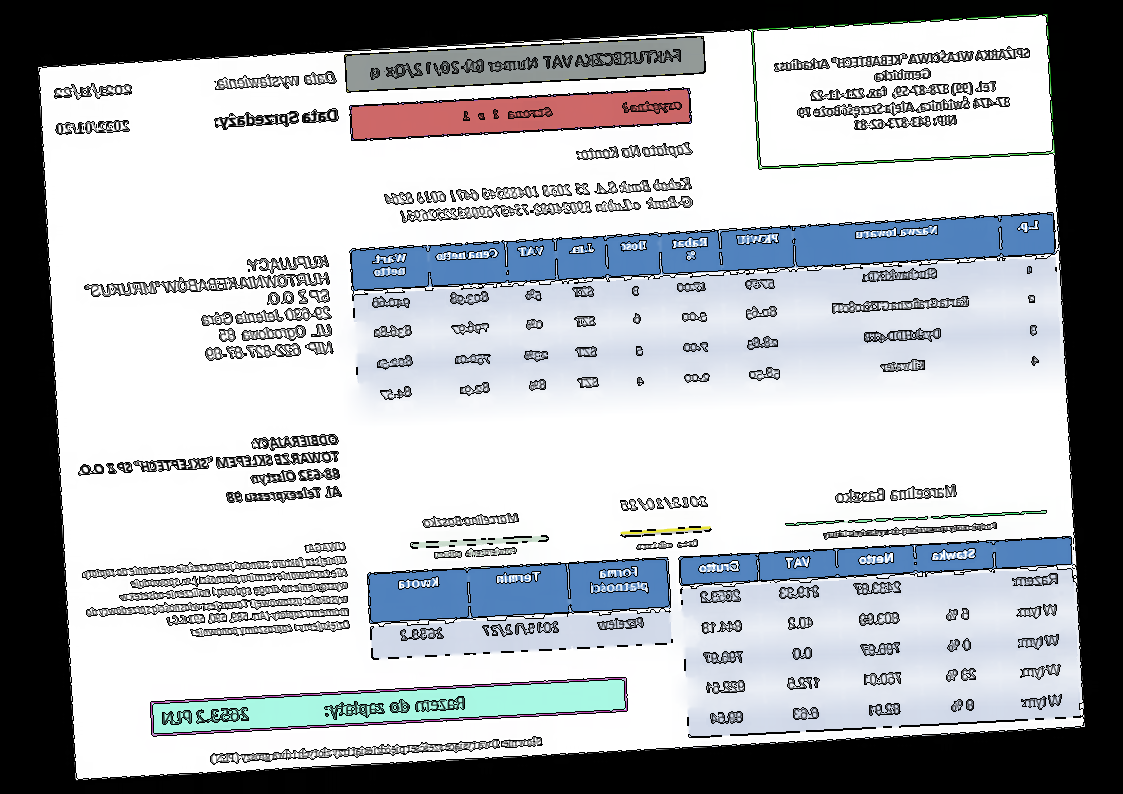Table: (348, 209, 1064, 414), (678, 536, 1083, 739), (367, 556, 674, 660)
TextBox: (81, 251, 337, 370), (80, 539, 353, 646), (773, 42, 1037, 137), (74, 429, 345, 514), (383, 173, 695, 226), (368, 45, 686, 84), (208, 732, 545, 767), (162, 691, 468, 729), (458, 96, 685, 127), (821, 520, 1000, 542), (210, 105, 340, 133), (212, 67, 339, 94), (572, 138, 694, 164), (835, 483, 958, 505), (51, 79, 137, 103), (421, 510, 521, 530), (617, 493, 711, 513), (52, 117, 134, 138), (432, 544, 518, 561), (635, 536, 700, 552)
